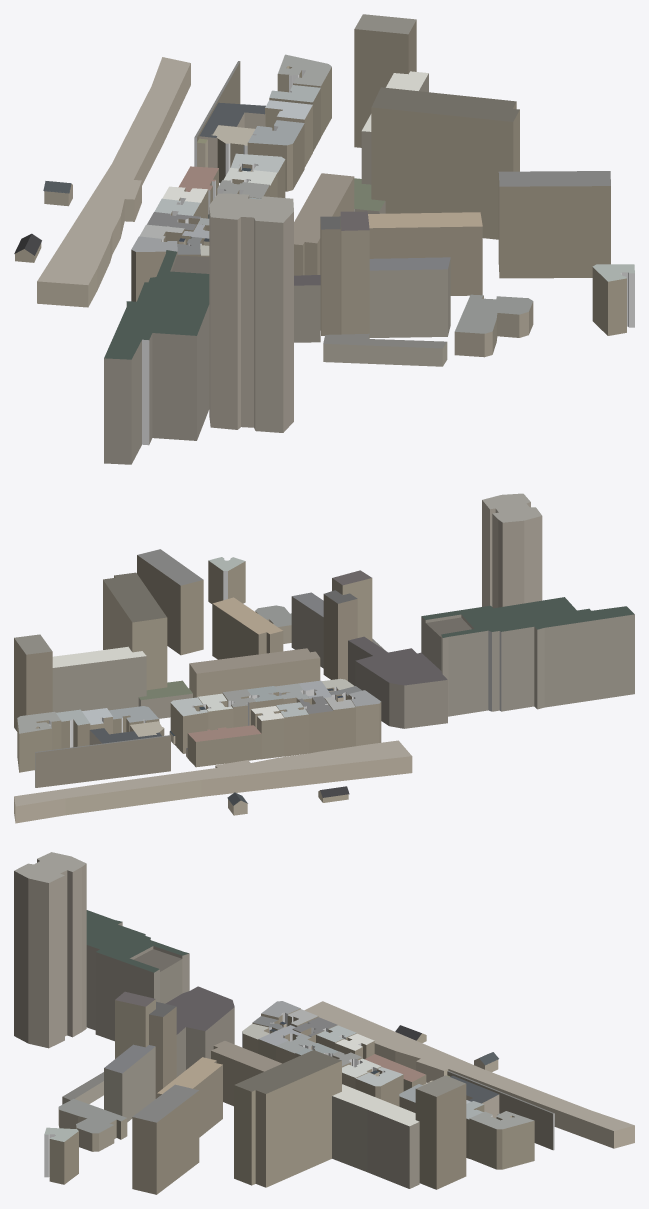
The picture shows the model from 3 angles, top to bottom: view 1: azimuth 30°, elevation 25°; view 2: azimuth 150°, elevation 25°; view 3: azimuth 270°, elevation 25°; orthographic projection. The views are drawn at different scales.
Parts seen in each view (by area): view 1: tuile; view 2: tuile; view 3: tuile.
Part boxes in pixels (x1=…): tuile: x1=14, y1=14, x2=634, y2=464; tuile: x1=14, y1=493, x2=634, y2=823; tuile: x1=14, y1=852, x2=634, y2=1194.
Size of the model in its own units: 279 by 99.54 by 329.
